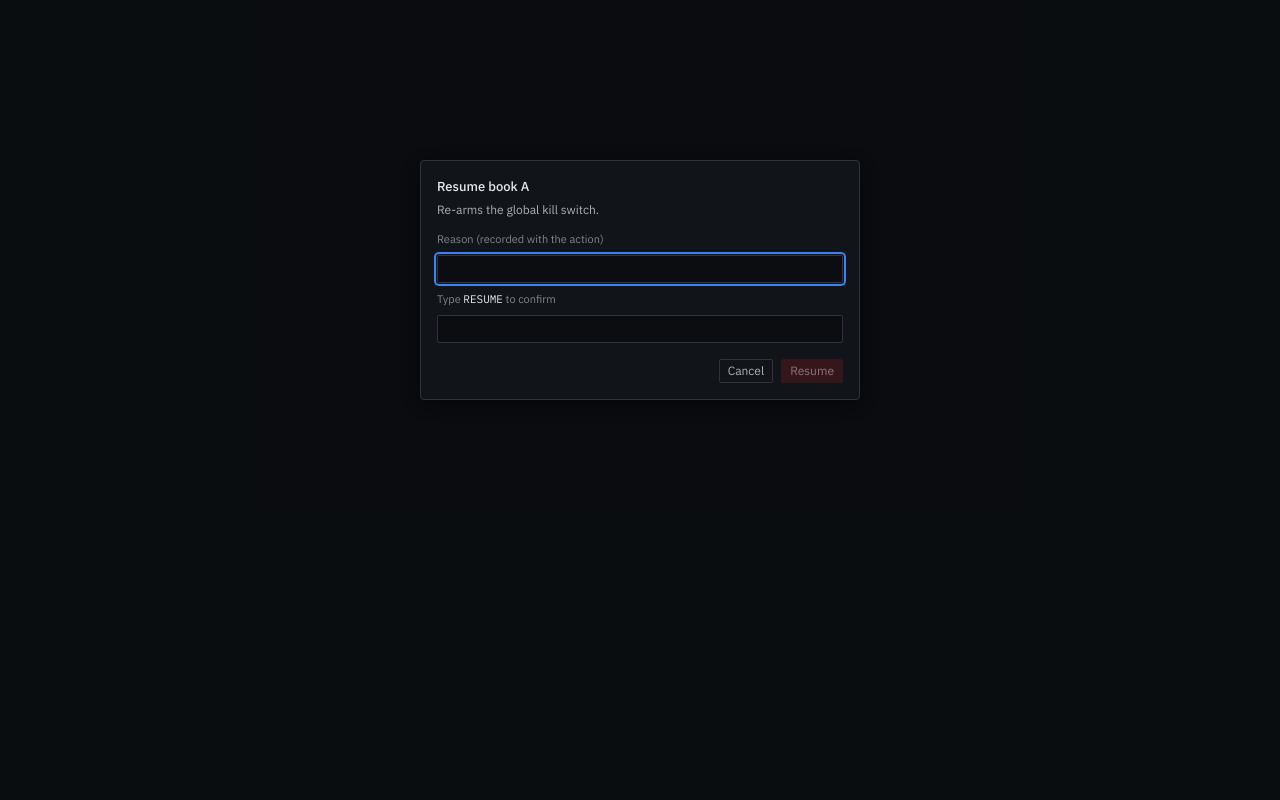
ConfirmTyped › arms only on the exact phrase and a reason, then reports server errors
Type "checked the feed" into the field labelled "Reason (recorded with the action)" at {"x": 640, "y": 269}, box [437,255,843,283]
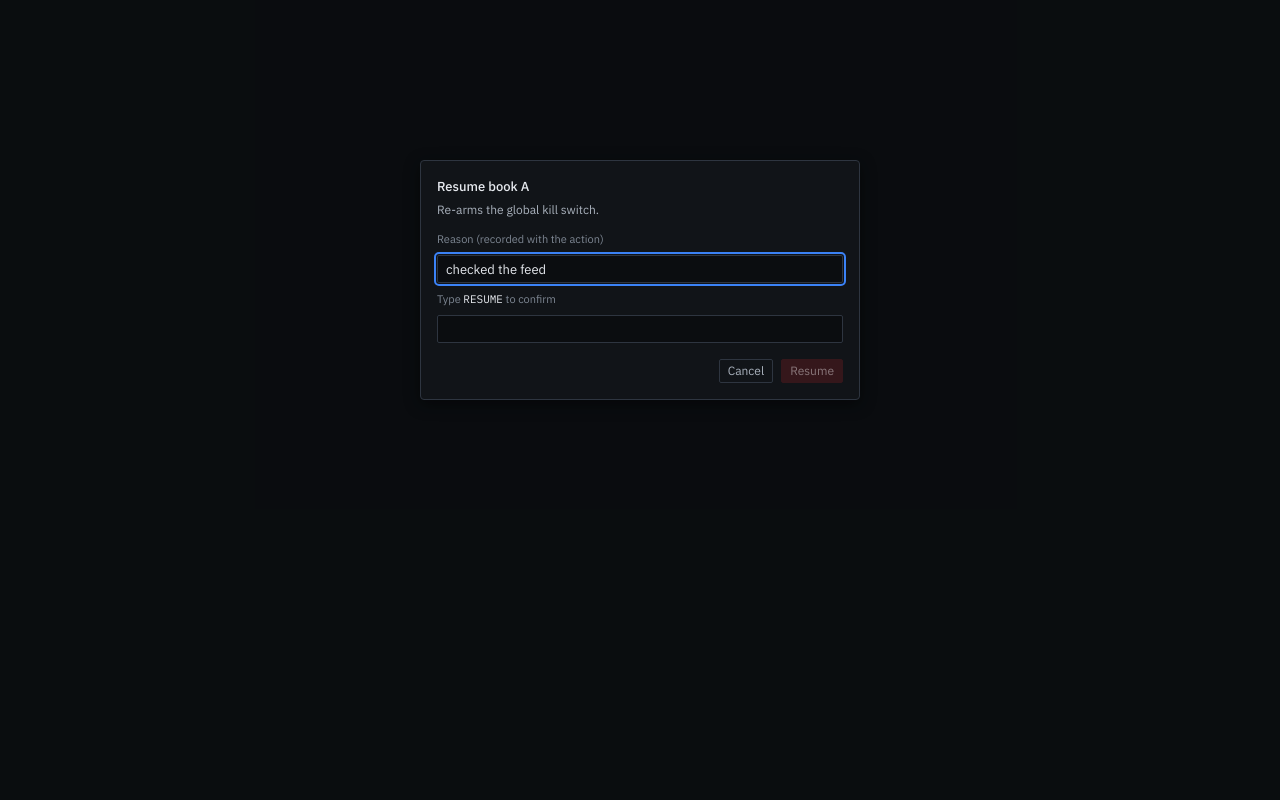
Type "resume" into the field labelled "Type RESUME to confirm" at {"x": 640, "y": 329}, box [437,315,843,343]
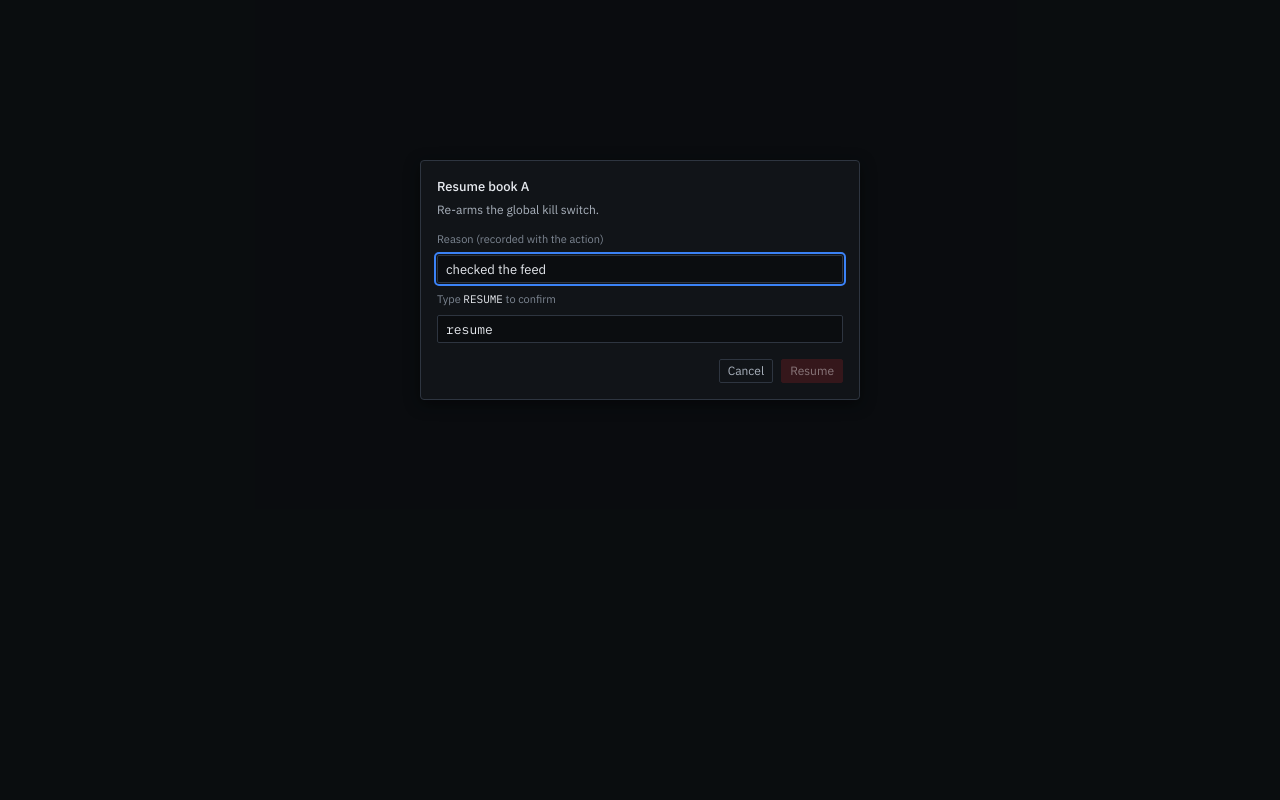
Expected: the button "Resume" is disabled, [781,359,843,383]
Replace the text in the field labelled "Type RESUME to confirm" with "RESUME" at {"x": 640, "y": 329}, box [437,315,843,343]
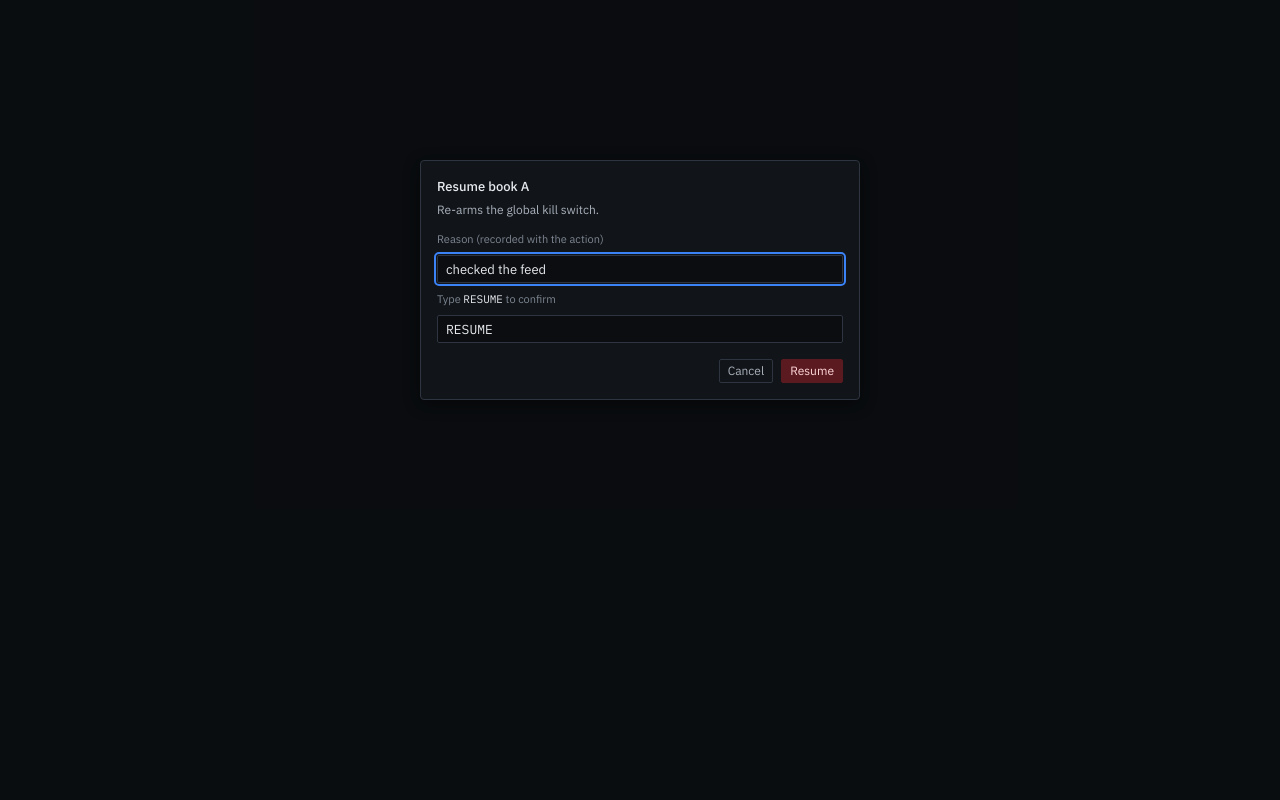
Result: the button "Resume" is enabled
Click the button "Resume" at {"x": 812, "y": 371}, box [781,359,843,383]
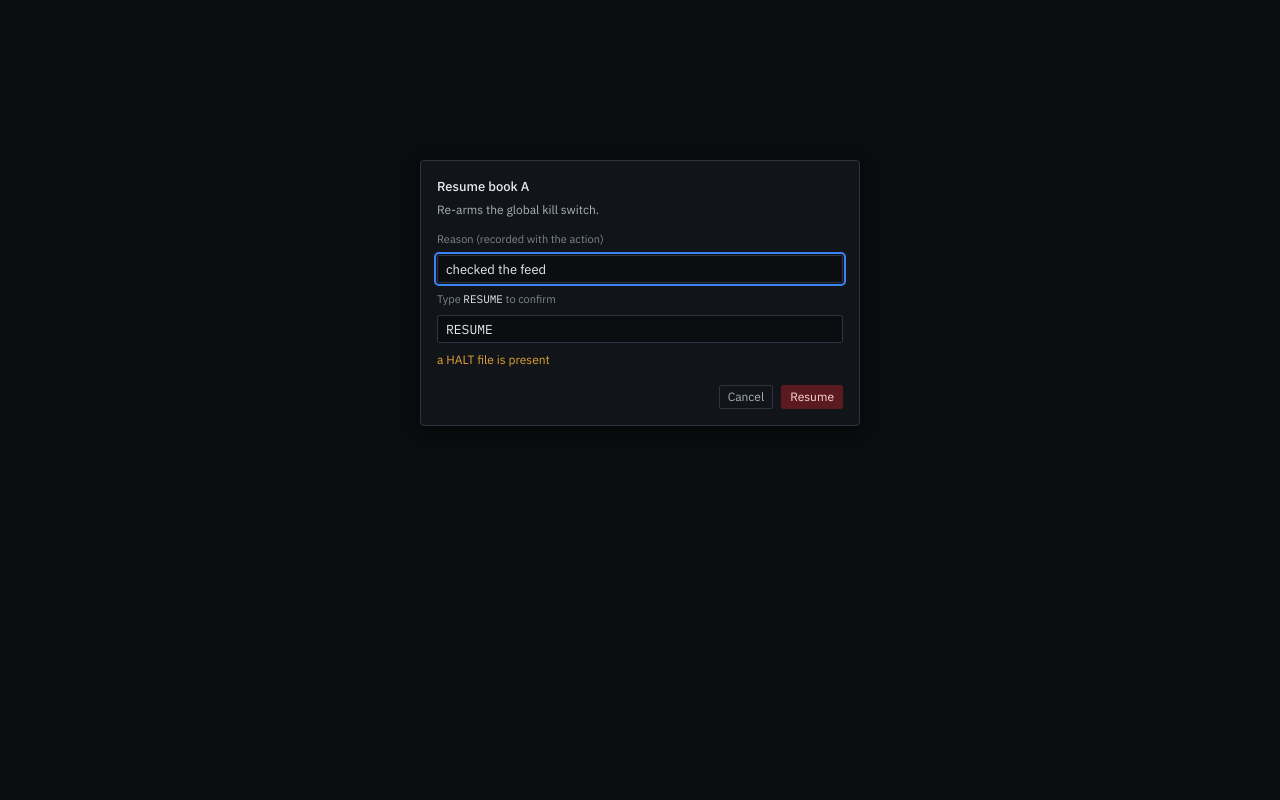
Result: the message reads "a HALT file is present" at [437,352,550,367]
